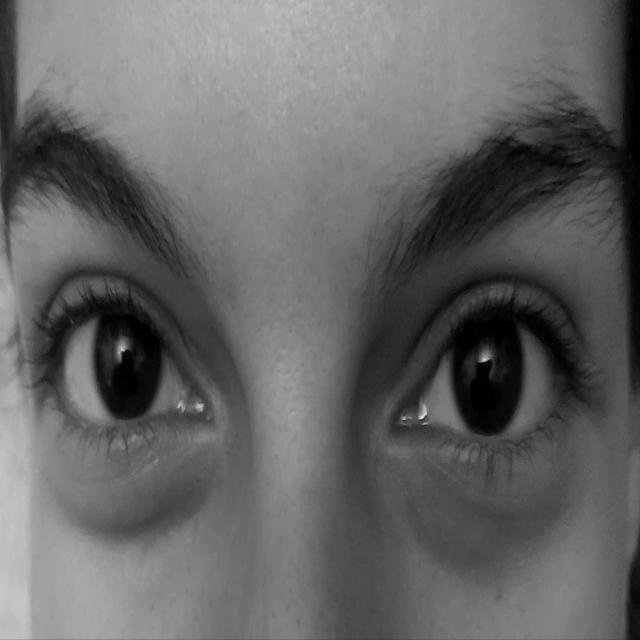real: (14, 188, 622, 541)
